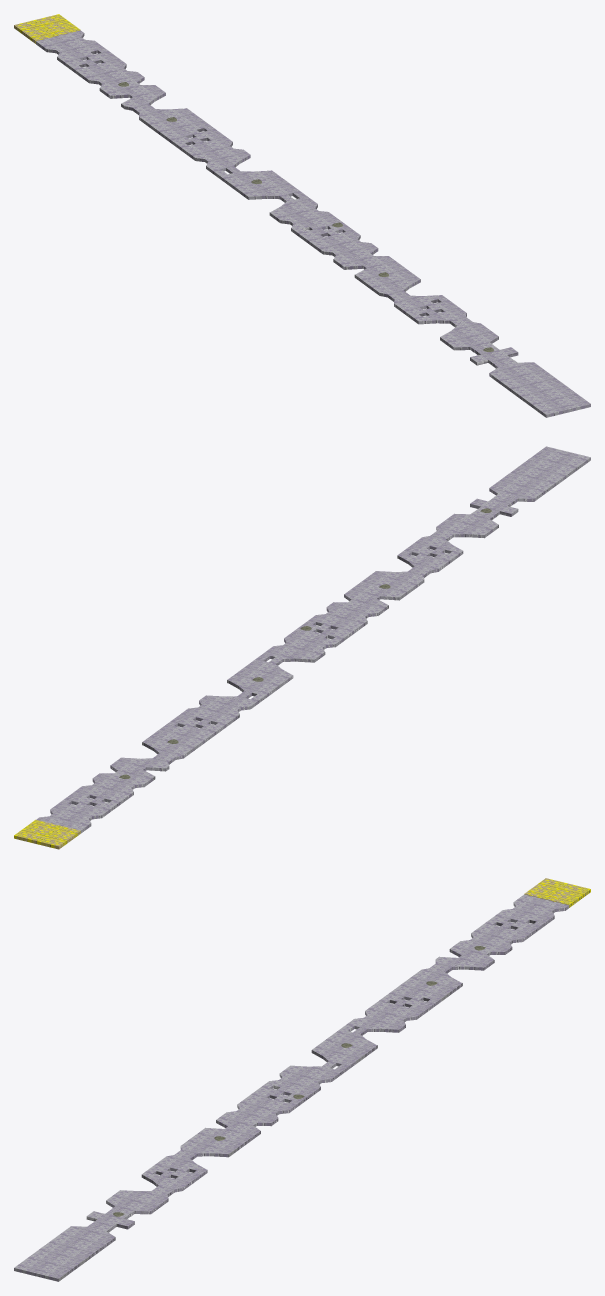
The model's file is Game_stage1.fbx.
The picture shows the model from 3 angles, top to bottom: view 1: azimuth 30°, elevation 25°; view 2: azimuth 150°, elevation 25°; view 3: azimuth 330°, elevation 25°; orthographic projection.
Parts seen in each view (by area): view 1: Yuka_Stage1, Goal1; view 2: Yuka_Stage1, Goal1; view 3: Yuka_Stage1, Goal1.
Part boxes in pixels (bbox=[...]): Yuka_Stage1: bbox=[36, 30, 590, 417]; Goal1: bbox=[14, 14, 80, 43]; Yuka_Stage1: bbox=[36, 446, 590, 833]; Goal1: bbox=[14, 819, 80, 849]; Yuka_Stage1: bbox=[14, 894, 568, 1281]; Goal1: bbox=[524, 878, 590, 907].
Size of the model in its own units: 71.32 by 5.14 by 1456.
3 materials, 3 textured.
